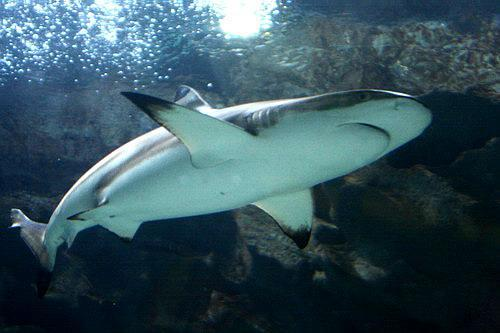fish: (10, 72, 434, 273)
